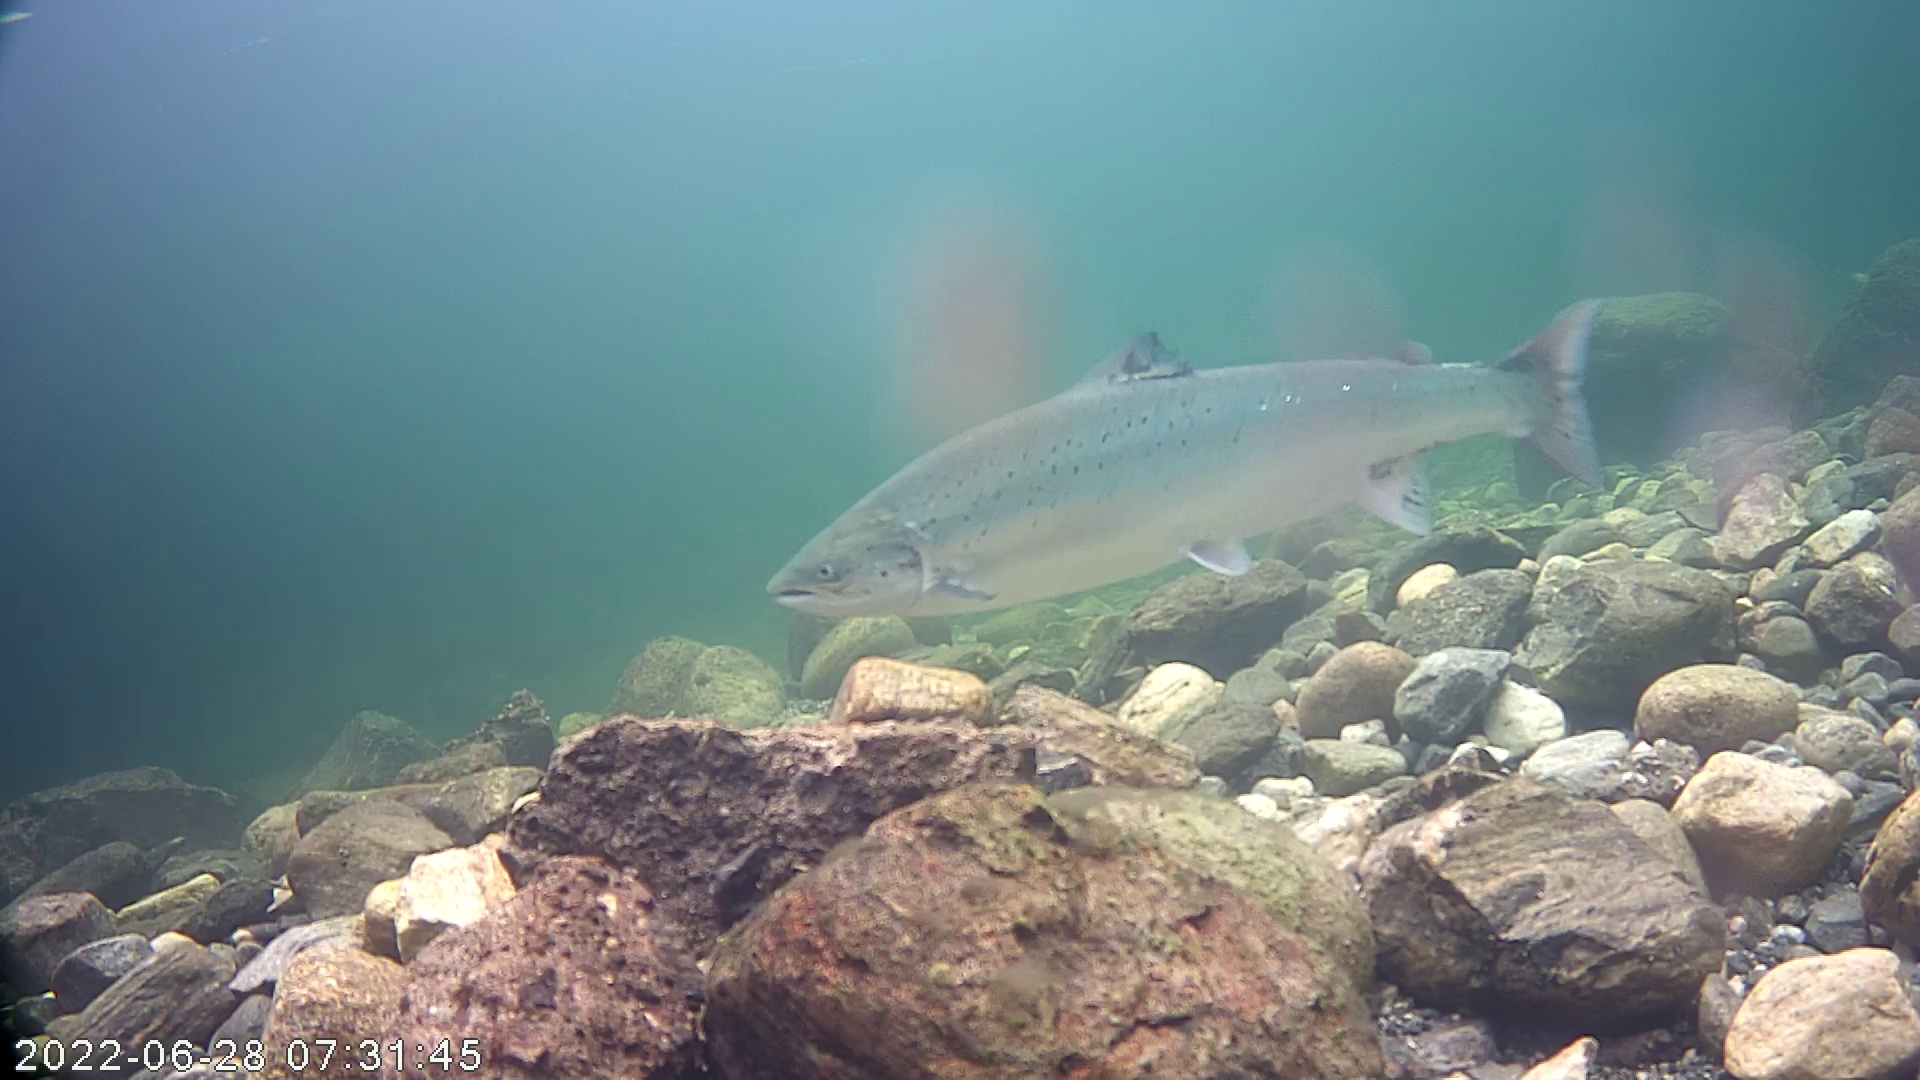salmon: (767, 219, 1631, 645)
